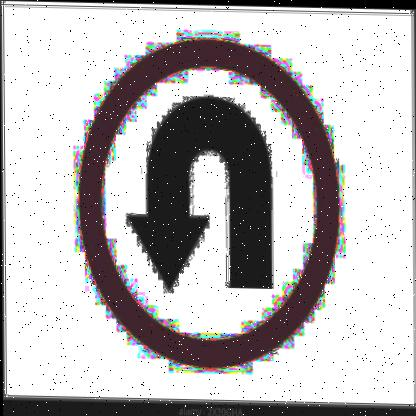U-turn: (71, 33, 348, 380)
